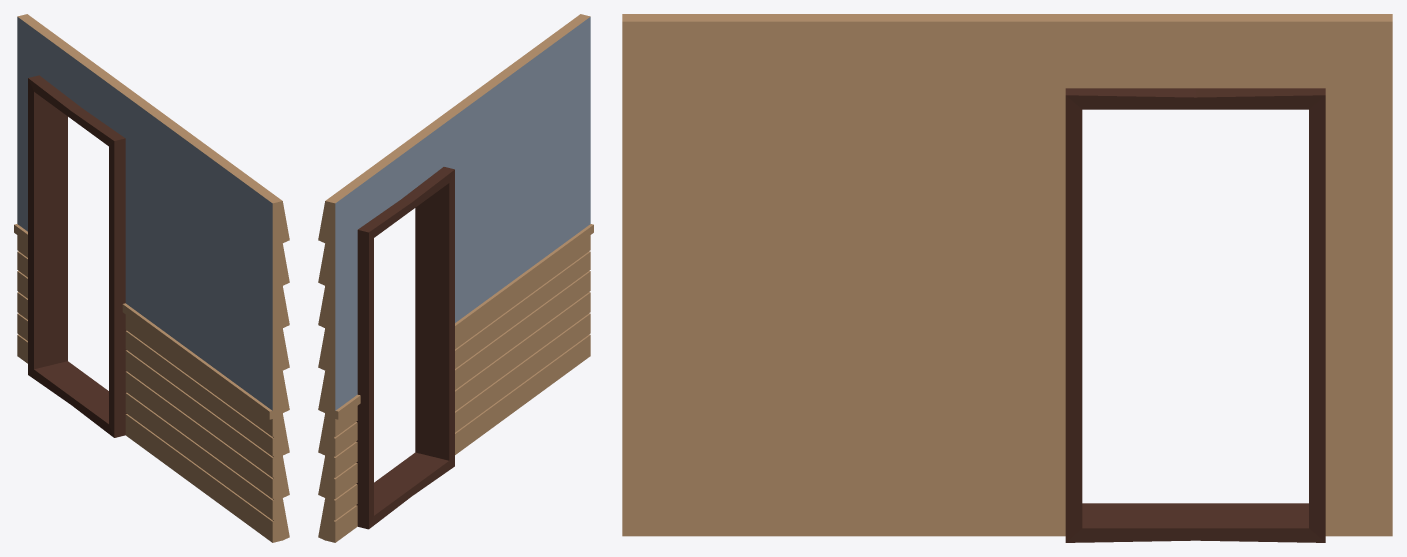
The model's file is Wall Door D-col.glb.
3 renders of one model, left to right at view 1: azimuth 30°, elevation 25°; view 2: azimuth 150°, elevation 25°; view 3: azimuth 270°, elevation 25°, orthographic. The views are drawn at different scales.
Parts seen in each view (by area): view 1: Wall Door D-col.001; view 2: Wall Door D-col.001; view 3: Wall Door D-col.001.
Boxes of the visible parts, left/top/right/bottom form: Wall Door D-col.001: left=14, top=14, right=289, bottom=542; Wall Door D-col.001: left=318, top=14, right=593, bottom=542; Wall Door D-col.001: left=622, top=14, right=1392, bottom=542.
Size of the model in its own units: 0.2339 by 2.2 by 3.
